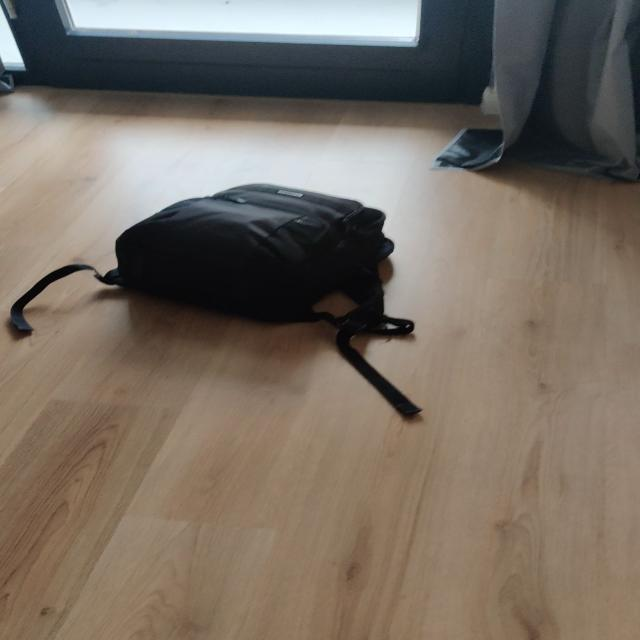backpack: (91, 180, 403, 328)
